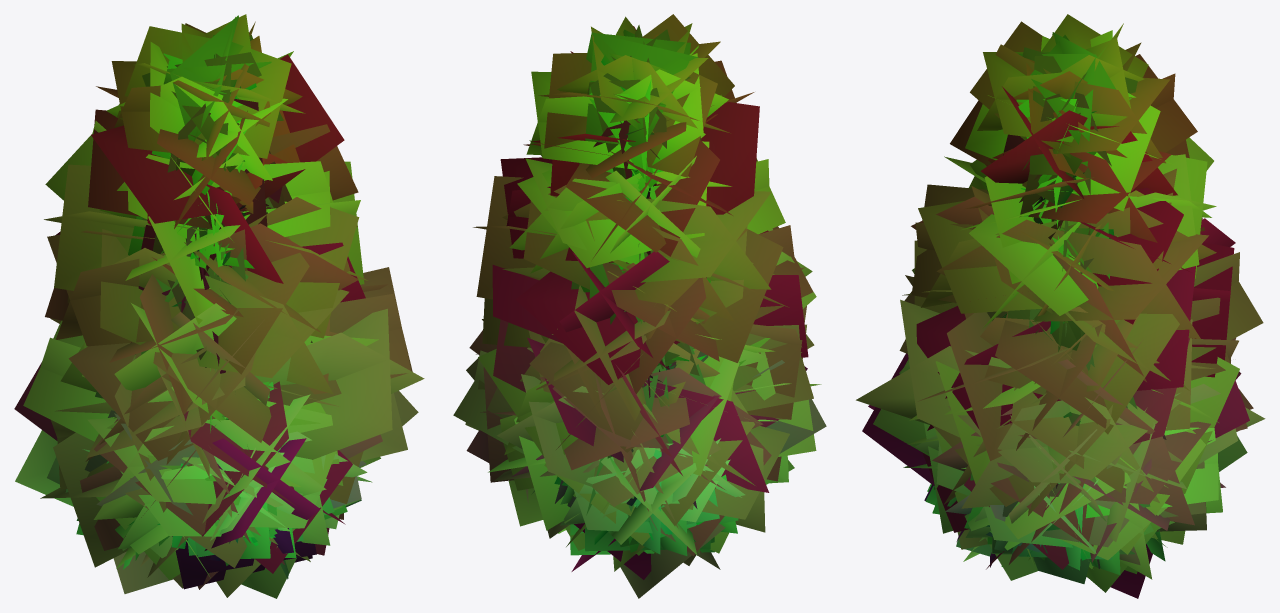
File: karadeniz-goknari.fbx
3 renders of one model, left to right at view 1: azimuth 30°, elevation 25°; view 2: azimuth 150°, elevation 25°; view 3: azimuth 270°, elevation 25°, orthographic. The views are drawn at different scales.
Parts seen in each view (by area): view 1: branch08_1; view 2: branch08_1; view 3: branch08_1.
Boxes of the visible parts, box(x1,y1,x2,y2) form: branch08_1: box(14, 14, 424, 598); branch08_1: box(453, 14, 826, 598); branch08_1: box(856, 14, 1265, 598).
Bounding box in the file's own units: 458 × 727 × 490.
